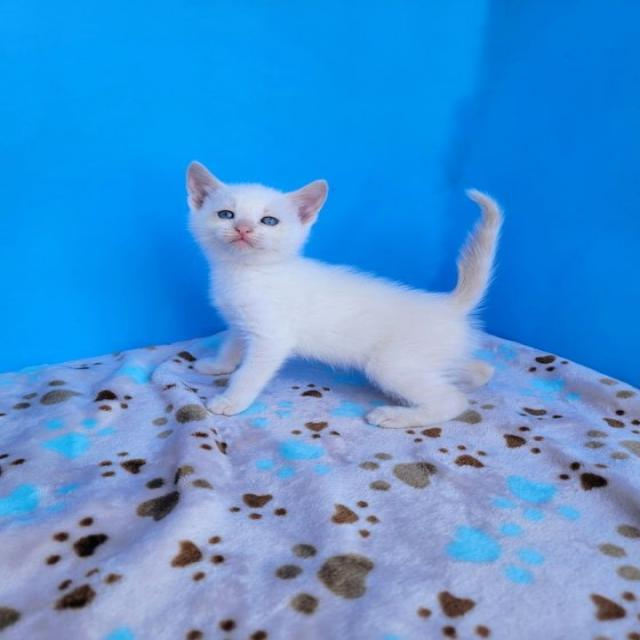siamese_cat: (167, 150, 338, 284)
